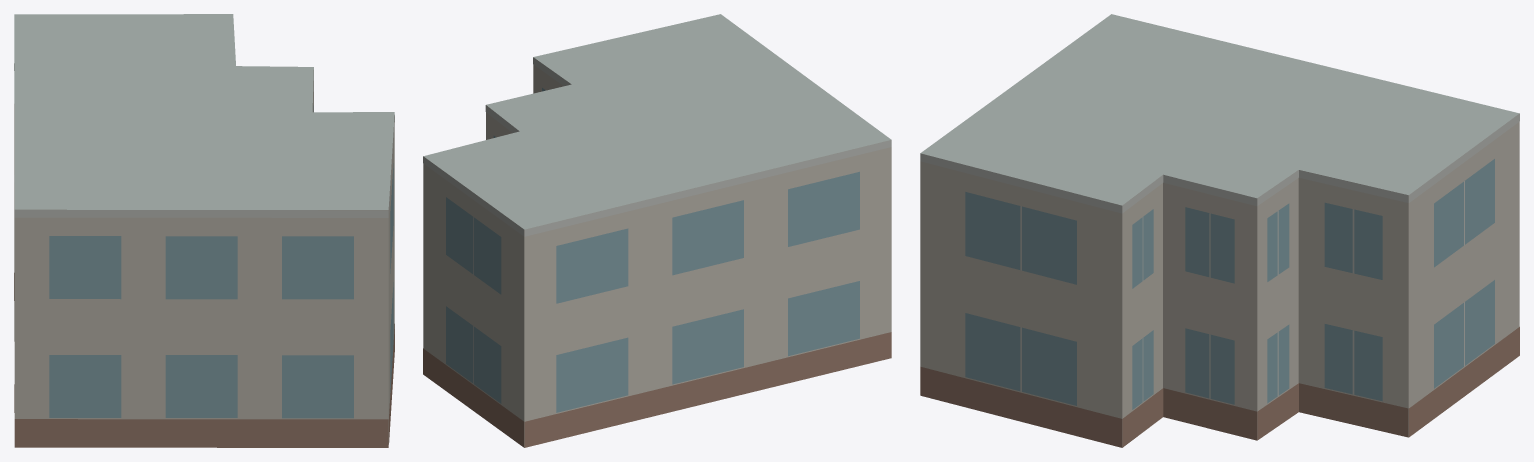
The model's file is survey-upis-32554586.glb.
3 renders of one model, left to right at view 1: azimuth 30°, elevation 25°; view 2: azimuth 150°, elevation 25°; view 3: azimuth 270°, elevation 25°, orthographic. The views are drawn at different scales.
Parts seen in each view (by area): view 1: survey-upis-32554586.tmp; view 2: survey-upis-32554586.tmp; view 3: survey-upis-32554586.tmp.
Boxes of the visible parts, x1=… form: survey-upis-32554586.tmp: x1=14, y1=14, x2=394, y2=447; survey-upis-32554586.tmp: x1=423, y1=14, x2=891, y2=447; survey-upis-32554586.tmp: x1=920, y1=14, x2=1519, y2=447.
Size of the model in its own units: 12.56 by 7.4 by 16.6.
